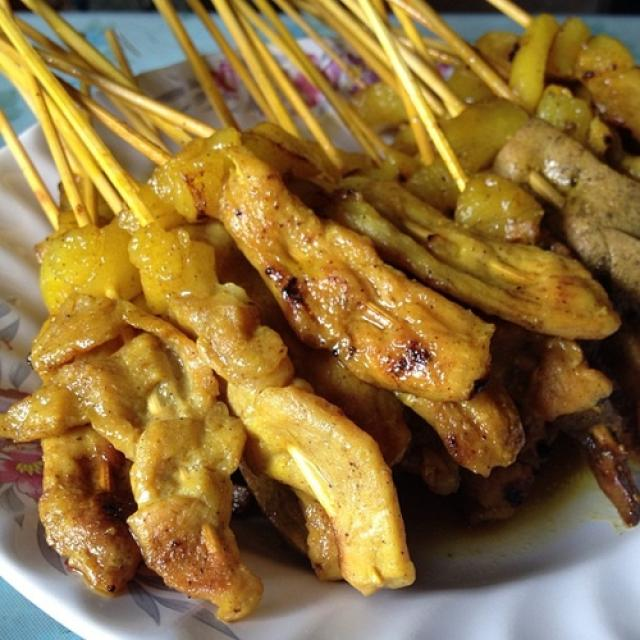牛肉菜式: (18, 23, 630, 608)
